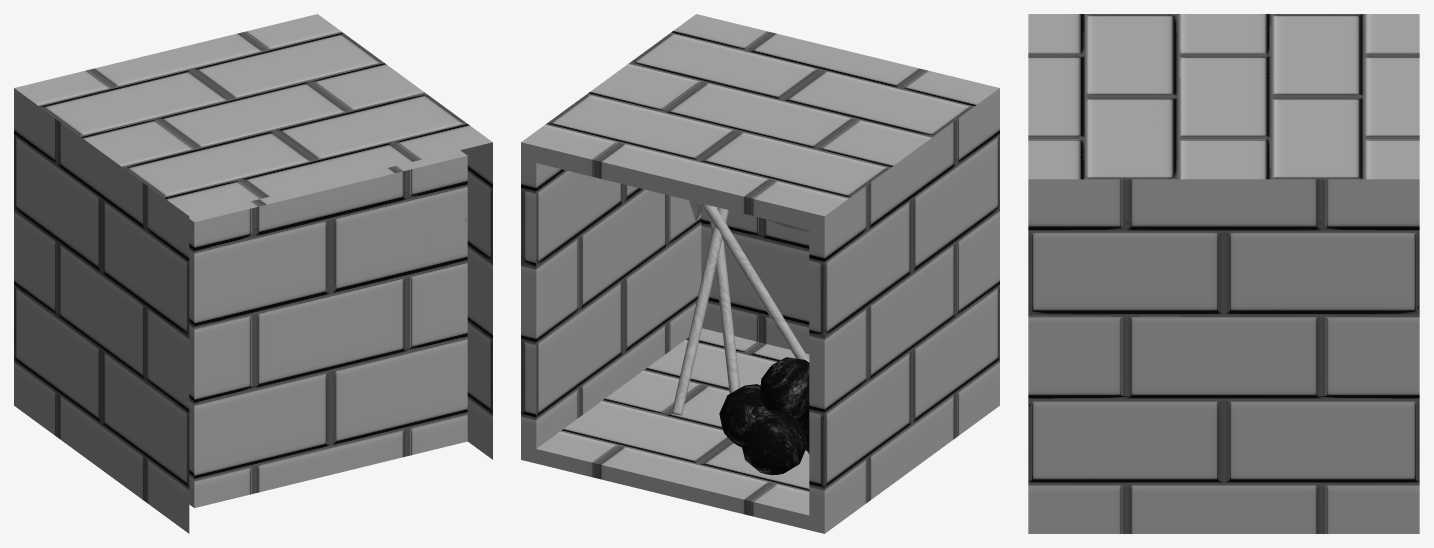
Rendered from Armory.fbx.
3 renders of one model, left to right at view 1: azimuth 30°, elevation 25°; view 2: azimuth 150°, elevation 25°; view 3: azimuth 270°, elevation 25°, orthographic. The views are drawn at different scales.
Visible parts, largest first — view 1: BrickBlock.002; view 2: BrickBlock.002; view 3: BrickBlock.002.
Boxes of the visible parts, x1,y1,x2,y2 form: BrickBlock.002: [14, 14, 492, 533]; BrickBlock.002: [521, 14, 999, 533]; BrickBlock.002: [1028, 14, 1419, 533].
Bounding box in the file's own units: 104 × 104 × 104.
